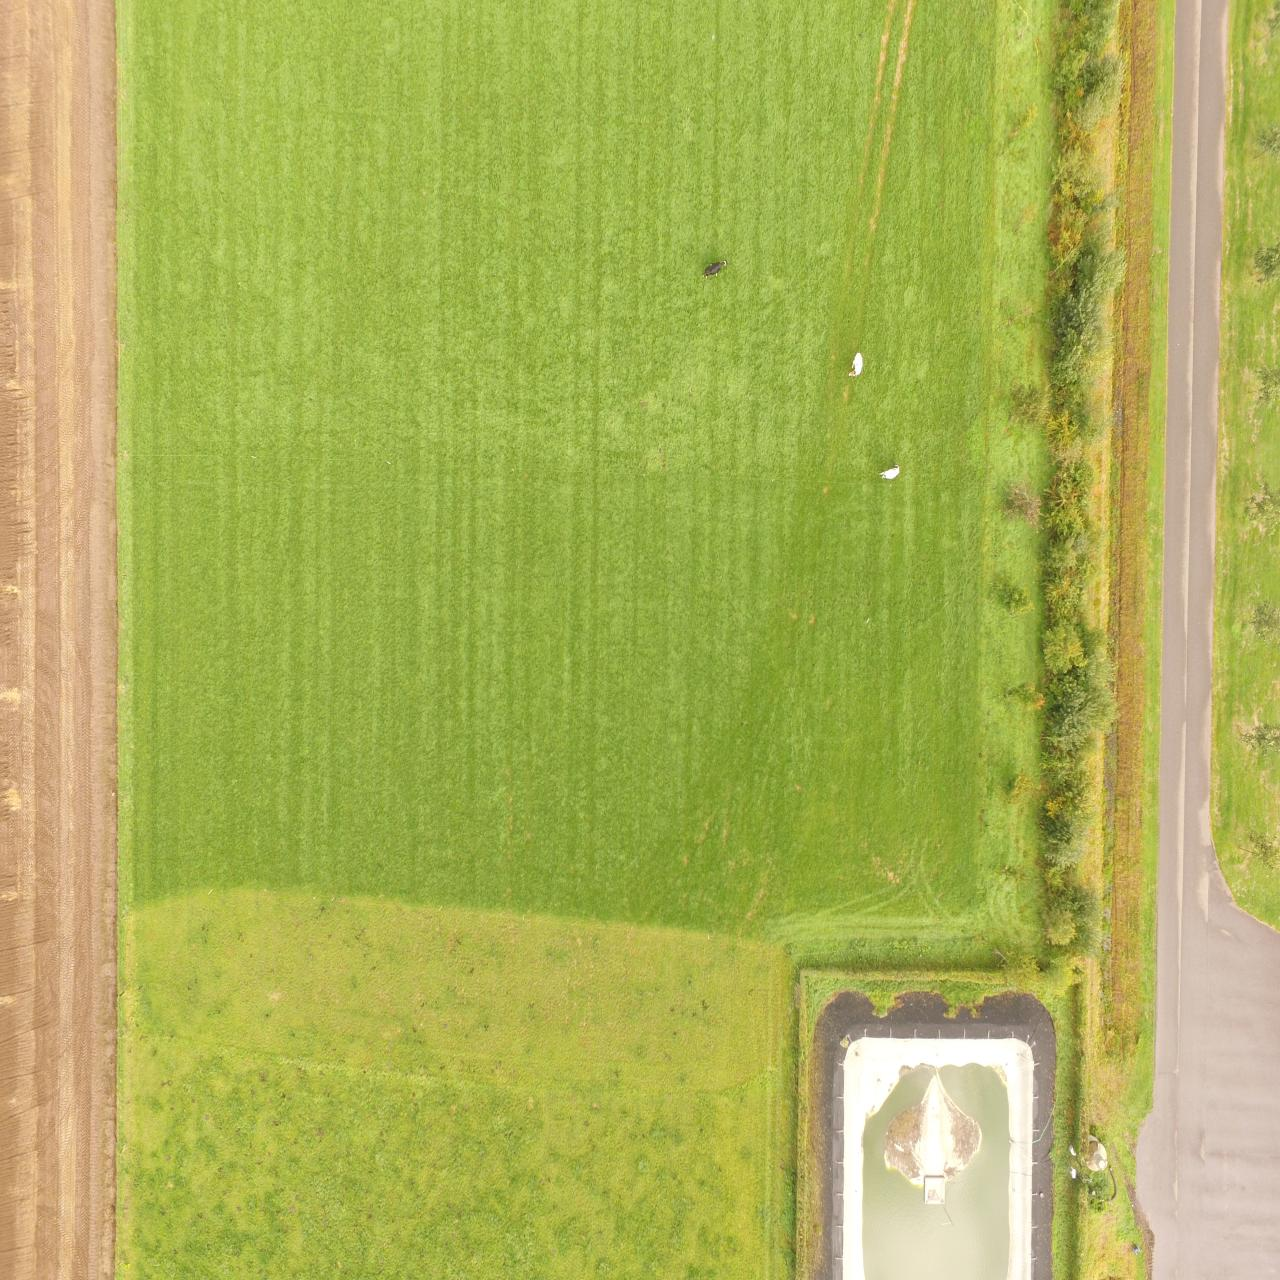cow: (837, 1028, 1037, 1275), (880, 1068, 985, 1210), (878, 457, 904, 486), (701, 248, 723, 281), (852, 347, 865, 374)
